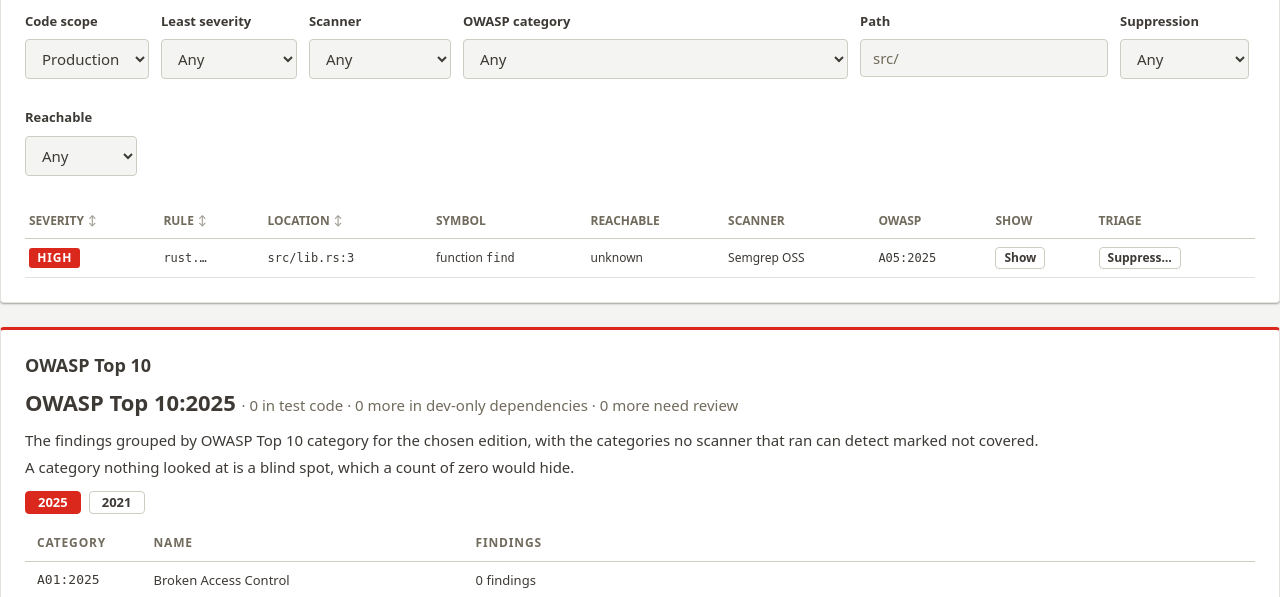
Test: triage (S-672, FR-SC-12) › suppresses from the dialog with an intent-guarded POST, then reloads and shows the reason
(page scrolled)
Click the button with aria-label "Suppress rust.lang.security.formatted-sql at src/lib.rs:3". click: click(1140, 258)
box: [1098,247,1181,269]
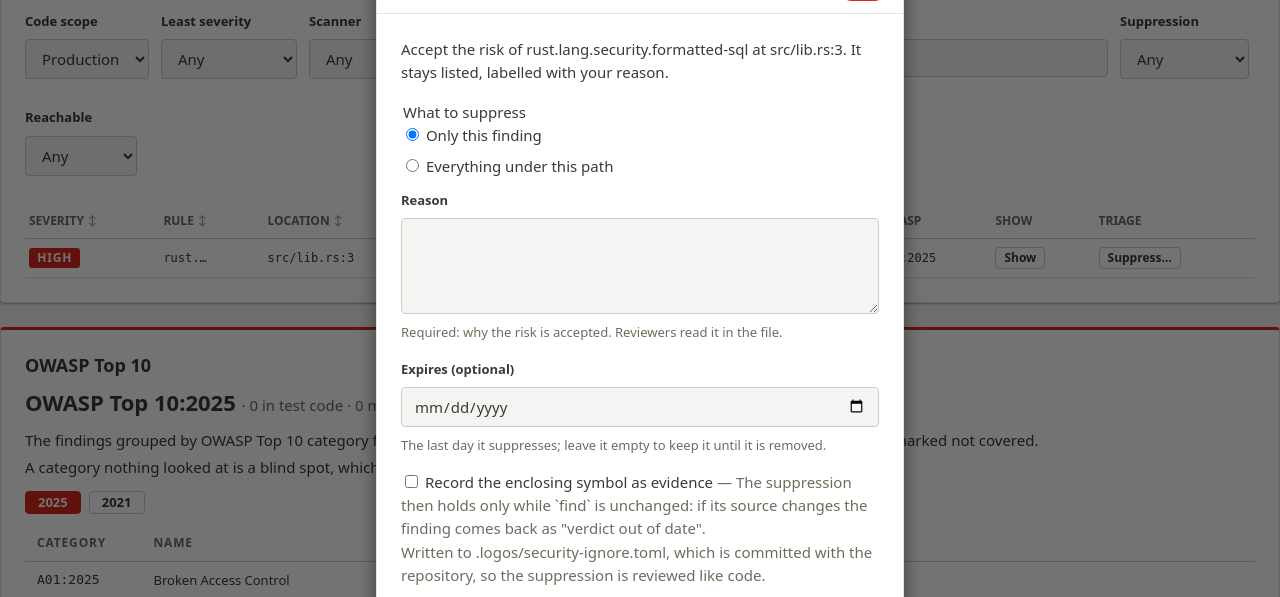
Now the dialog "Suppress this finding?" shows ".logos/security-ignore.toml", box [401,542,872,585]
Type "constant query" into the text box labelled "Reason". click: (640, 266)
box: [401,218,879,314]
(page scrolled)
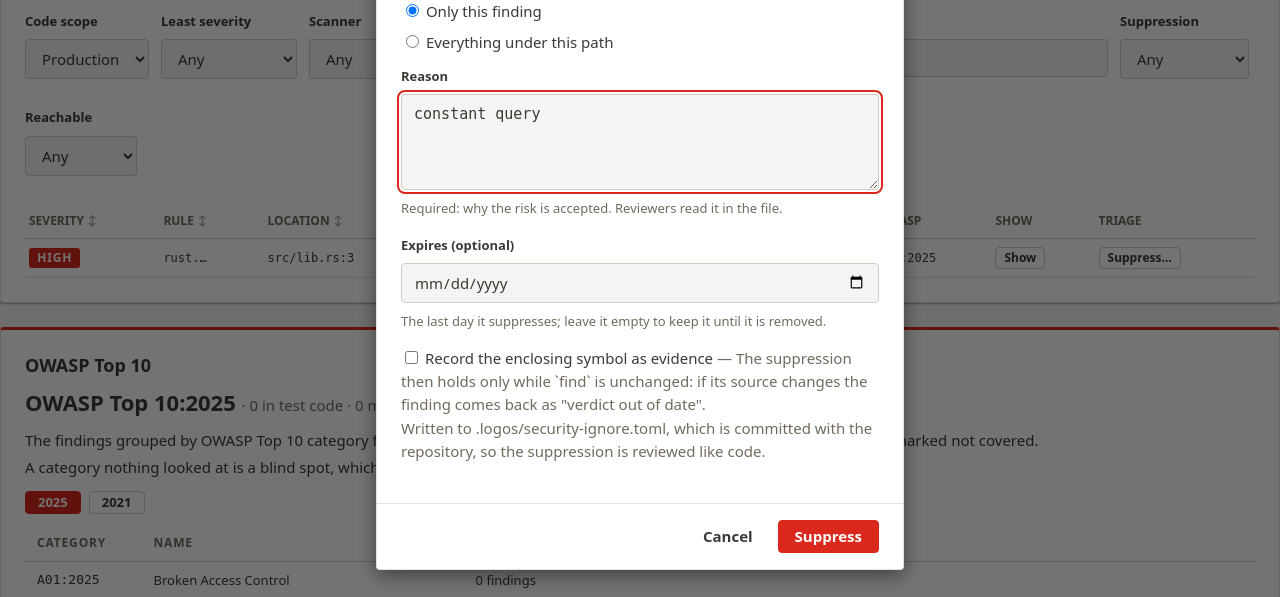
Click the button "Suppress". click: click(828, 537)
box: [778,520,879,553]
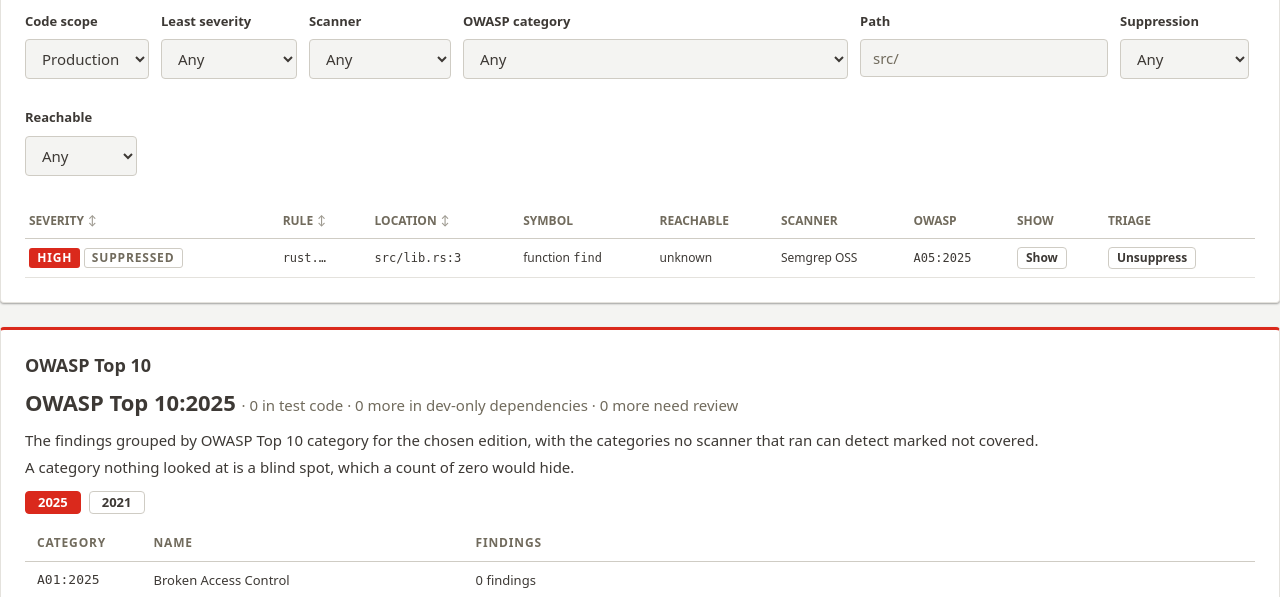
Now the text "suppressed" is shown, box [84,248,183,268]
Click the button with aria-label "Show rust.lang.security.formatted-sql at src/lib.rs:3". click: click(1042, 258)
box: [1017,247,1067,269]
(page scrolled)
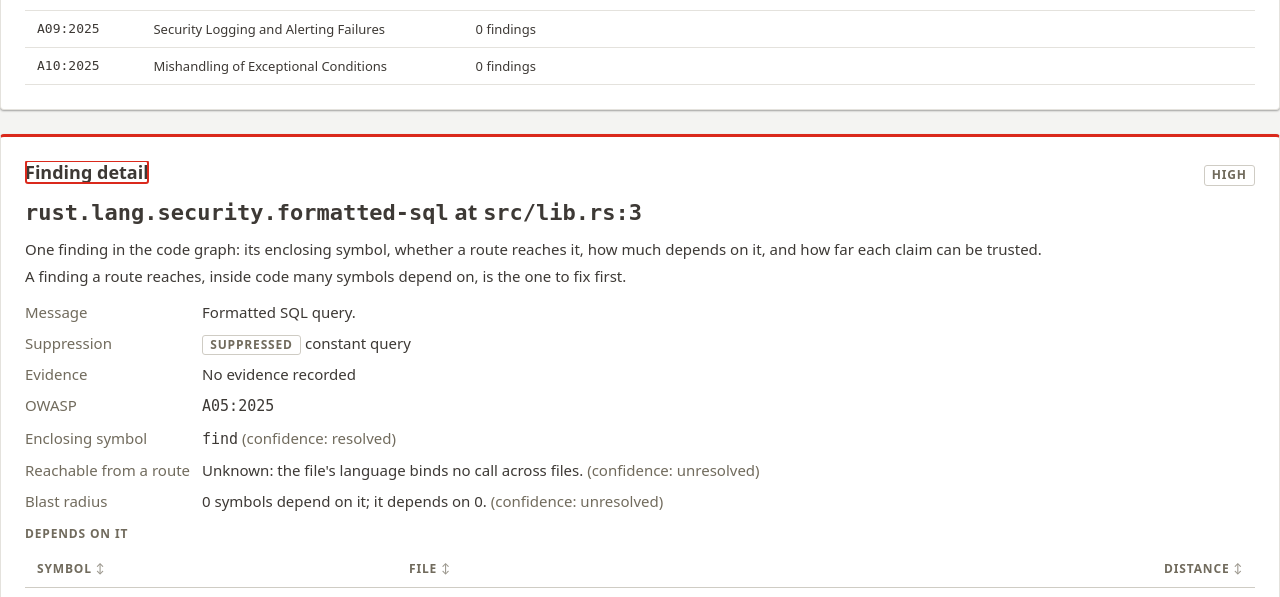
Now the text "constant query" is shown, box [305,333,411,353]
